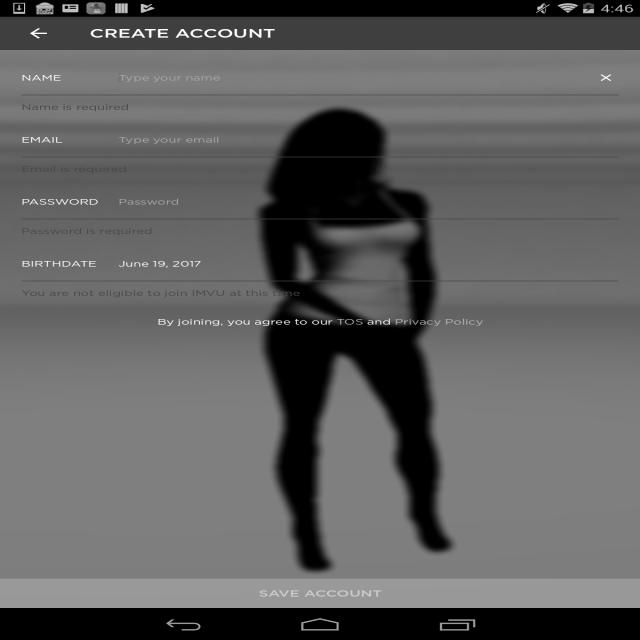Button: (0, 579, 640, 608)
EditText: (99, 50, 593, 95), (99, 112, 593, 157), (99, 236, 593, 281), (99, 174, 540, 219)
ImageButton: (9, 17, 68, 50)
ImageView: (0, 50, 640, 608), (593, 50, 619, 95)
TextView: (21, 298, 619, 340), (21, 95, 619, 112), (21, 157, 619, 174), (21, 219, 619, 236), (21, 281, 619, 298), (85, 25, 623, 41), (22, 174, 100, 219), (21, 236, 97, 281), (21, 112, 63, 157), (22, 50, 62, 95)
